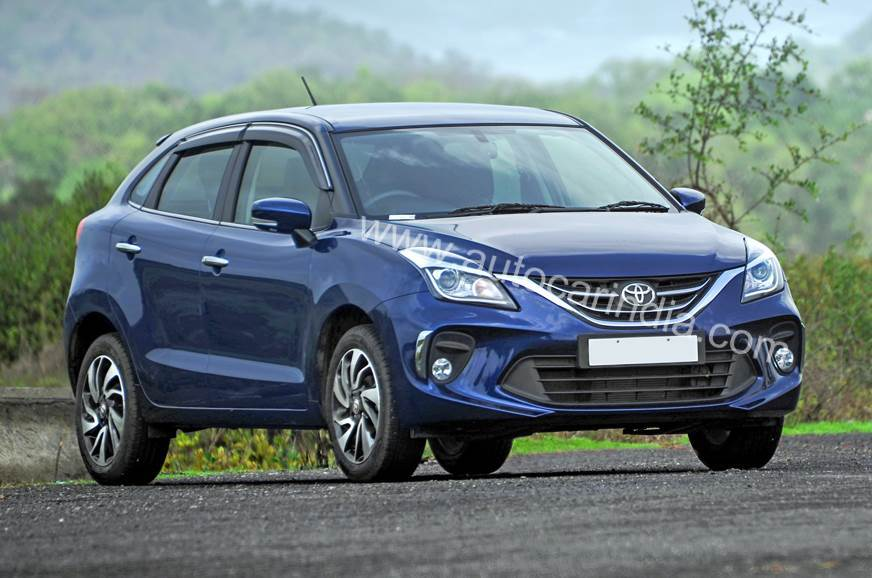car: (65, 101, 808, 472)
